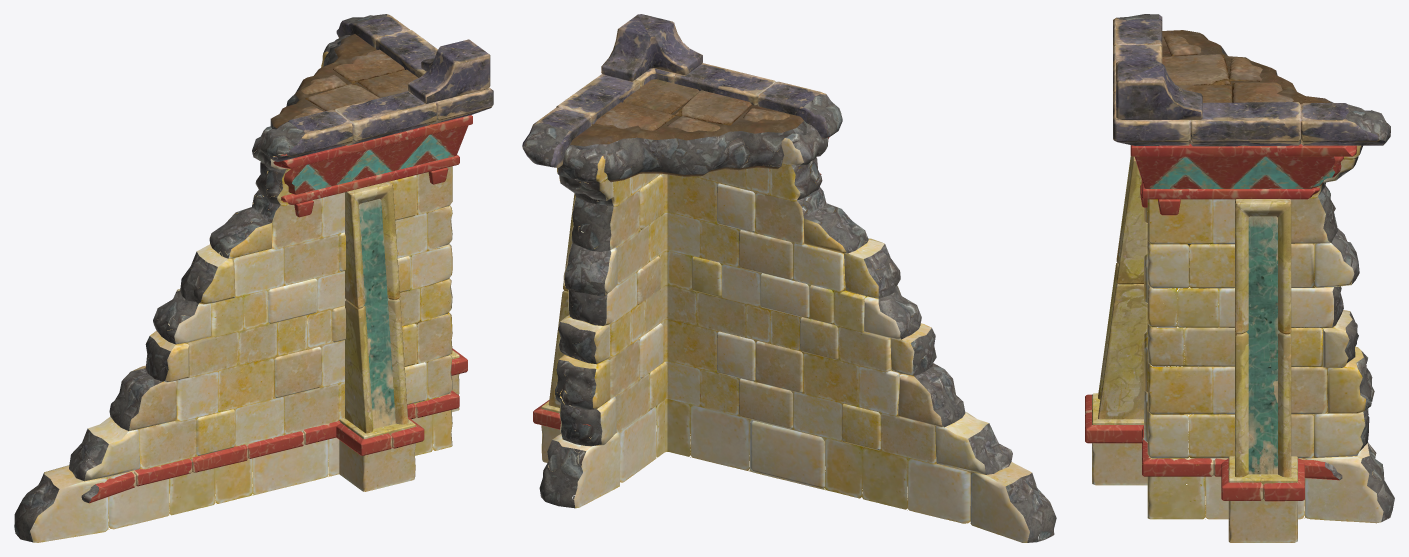
3 renders of one model, left to right at view 1: azimuth 30°, elevation 25°; view 2: azimuth 150°, elevation 25°; view 3: azimuth 270°, elevation 25°, orthographic. The views are drawn at different scales.
Parts seen in each view (by area): view 1: SM_Menaphite_Ruins_02_LOD0; view 2: SM_Menaphite_Ruins_02_LOD0; view 3: SM_Menaphite_Ruins_02_LOD0.
Part boxes in pixels (x1,y1,x2,y2): SM_Menaphite_Ruins_02_LOD0: (14, 14, 493, 542); SM_Menaphite_Ruins_02_LOD0: (522, 14, 1056, 542); SM_Menaphite_Ruins_02_LOD0: (1085, 14, 1394, 542).
Size of the model in its own units: 11.14 by 9.04 by 5.61.
9 materials, 9 textured.
